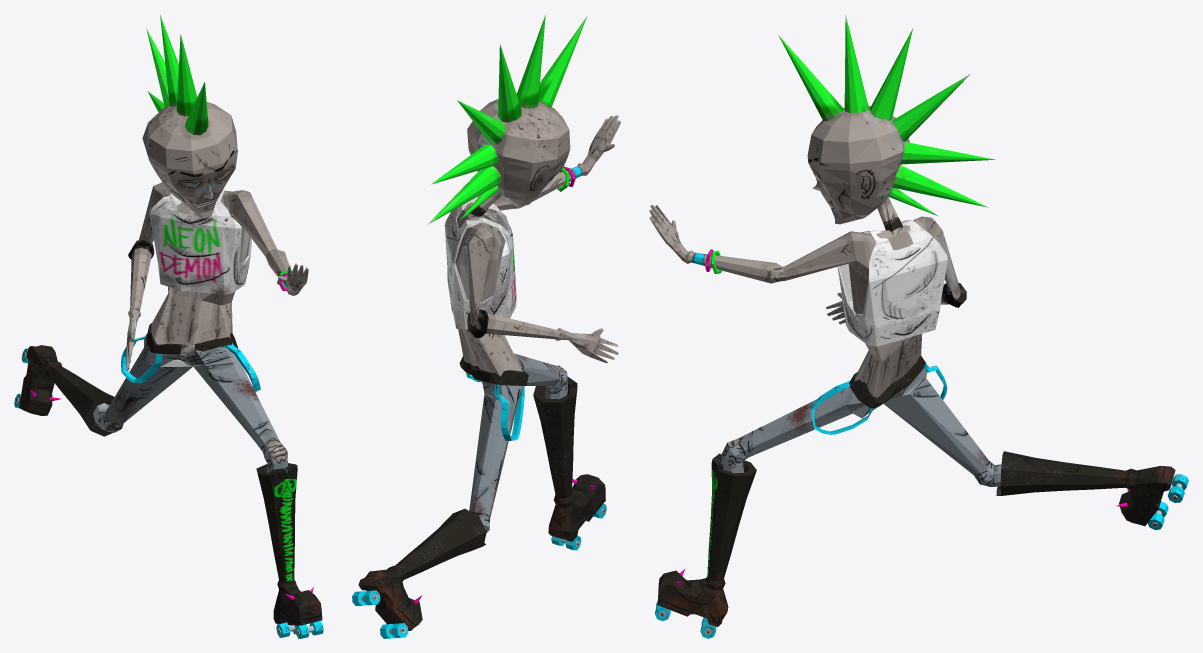
The model's file is punkAnimation_000019.obj.
3 views of the same model, side by side, from view 1: azimuth 30°, elevation 25°; view 2: azimuth 150°, elevation 25°; view 3: azimuth 270°, elevation 25° (orthographic). The views are drawn at different scales.
Parts seen in each view (by area): view 1: Cube.004_Cube.003; view 2: Cube.004_Cube.003; view 3: Cube.004_Cube.003.
Part boxes in pixels (x1=…): Cube.004_Cube.003: x1=14, y1=14, x2=323, y2=638; Cube.004_Cube.003: x1=352, y1=15, x2=620, y2=638; Cube.004_Cube.003: x1=649, y1=15, x2=1188, y2=638.
Size of the model in its own units: 1.82 by 6.74 by 5.52.
